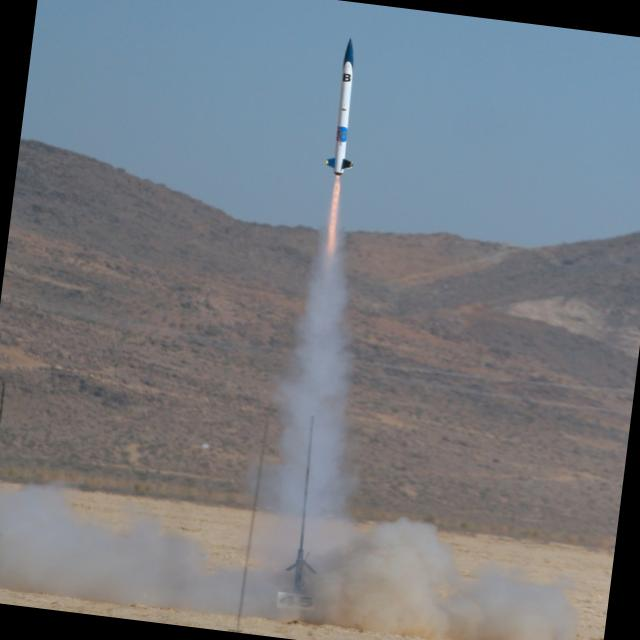rocket: (300, 29, 375, 308)
